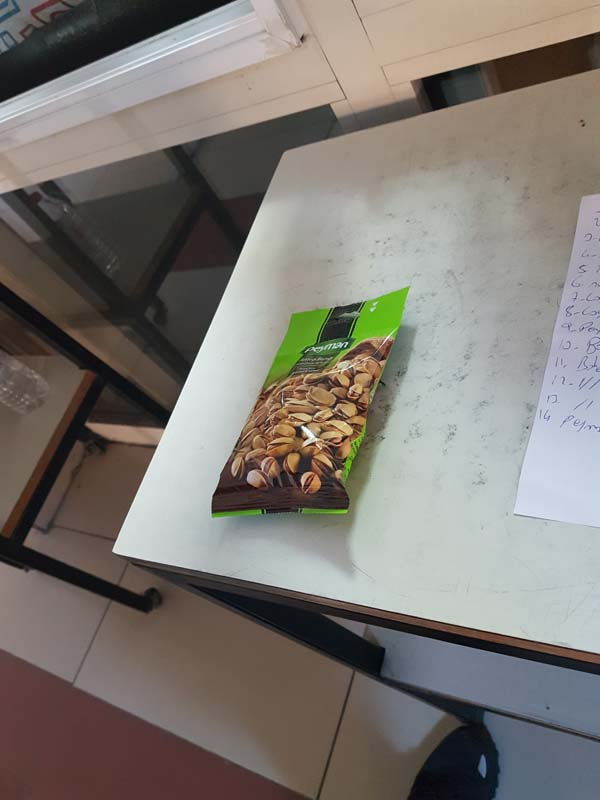antepfistigi: (210, 279, 415, 527)
